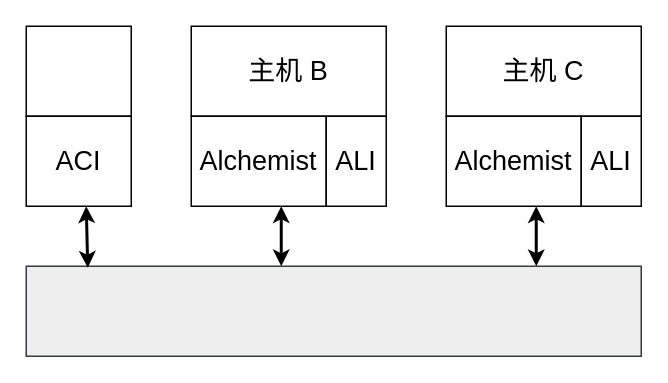
The diagram is 668 pixels wide and 383 high, and some of its shapes have lost their labels. The centre of each missing label's shape, as x and y in pixels:
"SN2100 交换机" belongs at point 333,310.
"主机 A" belongs at point 78,70.
